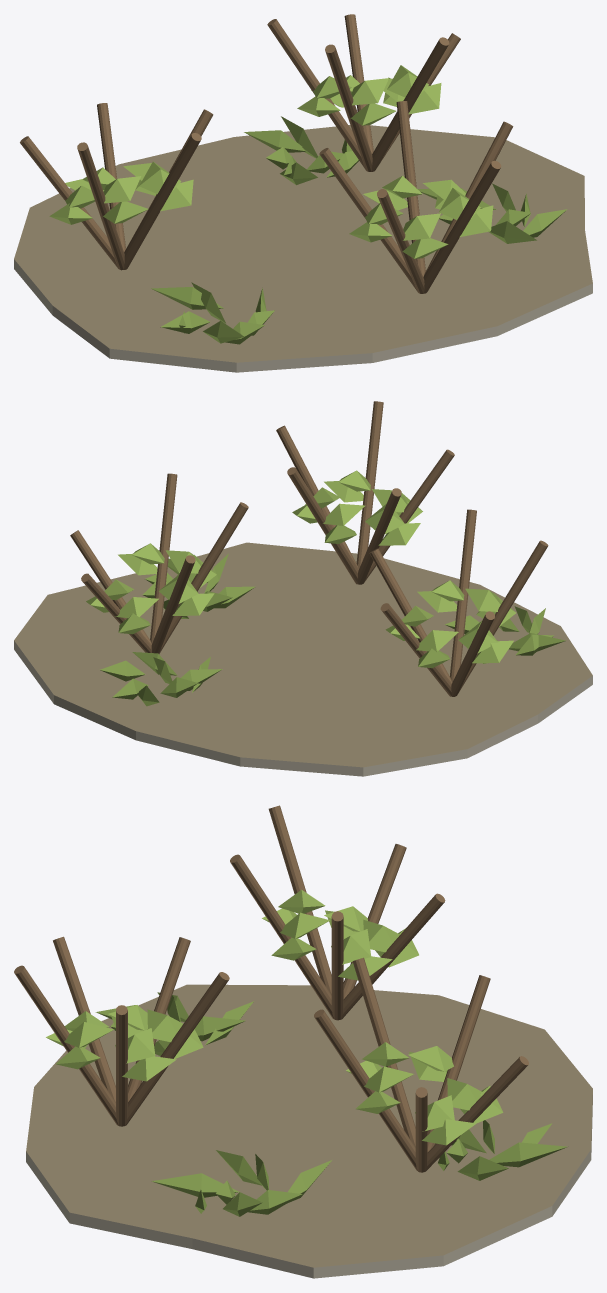
Rendered from Shrub_Cluster_Sprouting.glb.
3 renders of one model, top to bottom at view 1: azimuth 30°, elevation 25°; view 2: azimuth 150°, elevation 25°; view 3: azimuth 270°, elevation 25°, orthographic. The views are drawn at different scales.
Parts seen in each view (by area): view 1: Support, Growth; view 2: Support, Growth; view 3: Support, Growth.
Part boxes in pixels (box(x1,y1,x2,y2)): Support: box(14, 125, 592, 372); Growth: box(20, 14, 567, 344); Support: box(14, 542, 592, 776); Growth: box(70, 401, 565, 706); Support: box(26, 984, 592, 1278); Growth: box(14, 805, 567, 1216).
Size of the model in its own units: 2.79 by 0.9102 by 2.41.
